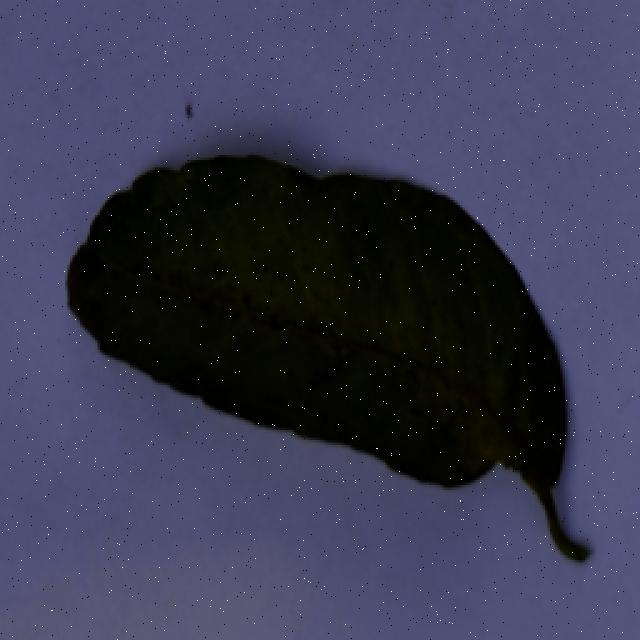blackspot: (59, 139, 616, 579)
